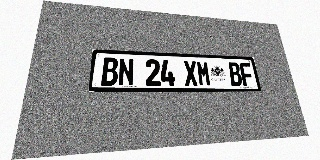2: (146, 59, 161, 86)
4: (160, 60, 175, 86)
B: (101, 57, 118, 86), (227, 62, 243, 86)
F: (239, 63, 255, 86)
M: (196, 61, 212, 86)
N: (118, 58, 134, 86)
X: (183, 60, 198, 86)
